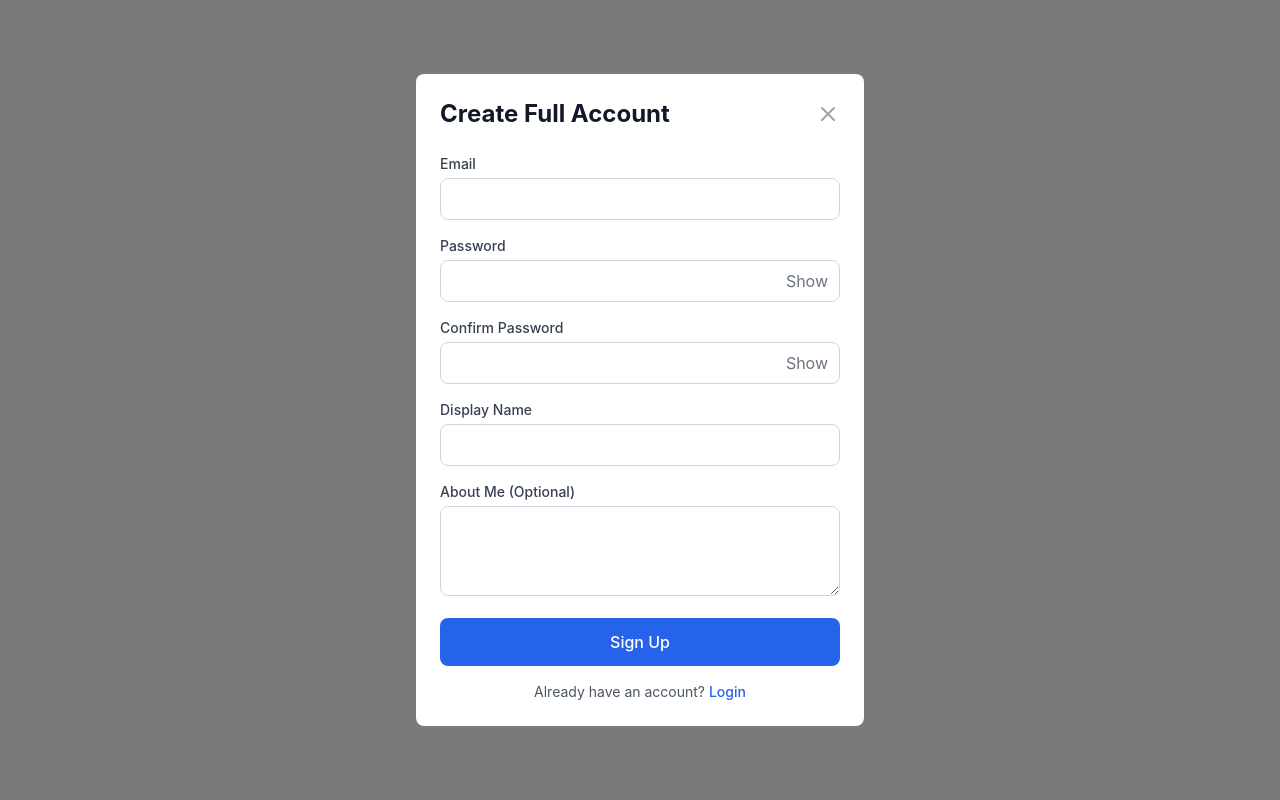
Test: SignupModal › Form Validation › should show error for invalid email format
The width and height of the screenshot is (1280, 800).
Type "invalid-email" into the field labelled "Email" at point(640, 199), box [440,178,840,220]
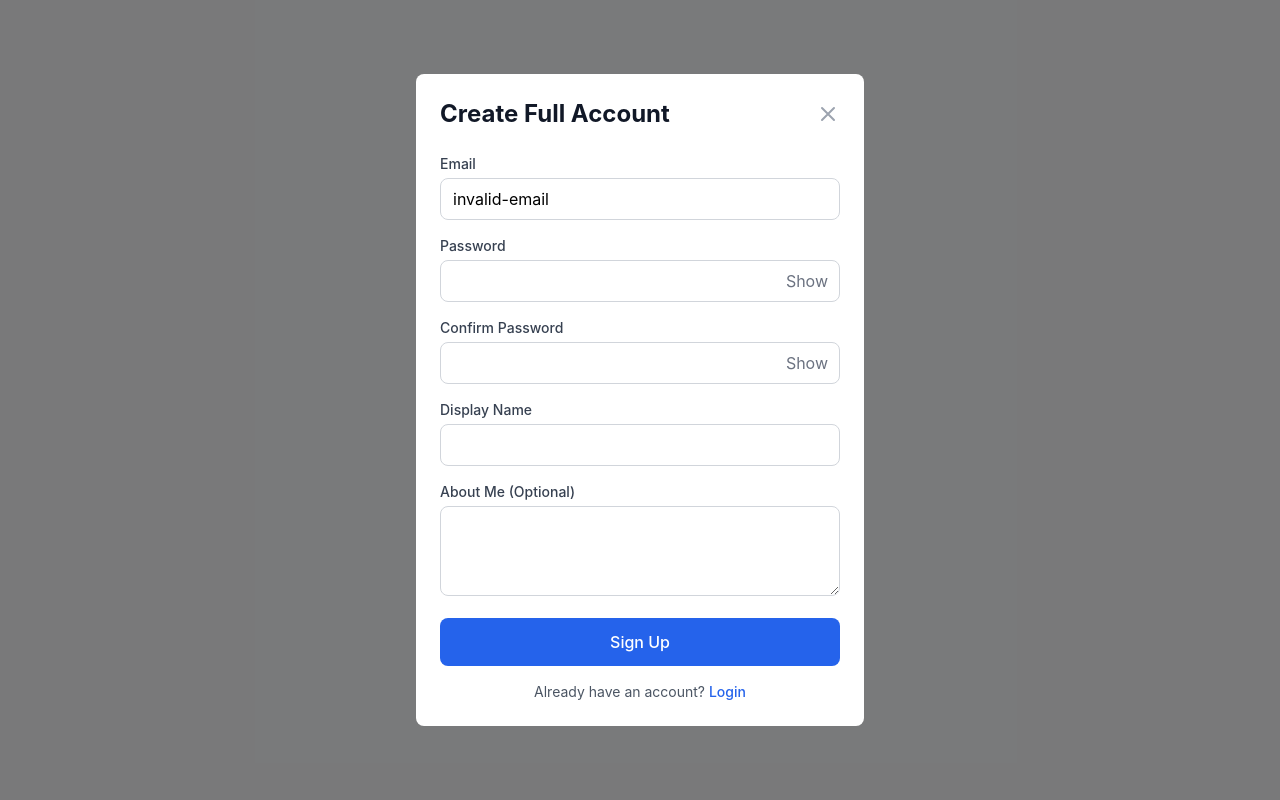
Leave the field labelled "Email", box [440,178,840,220]
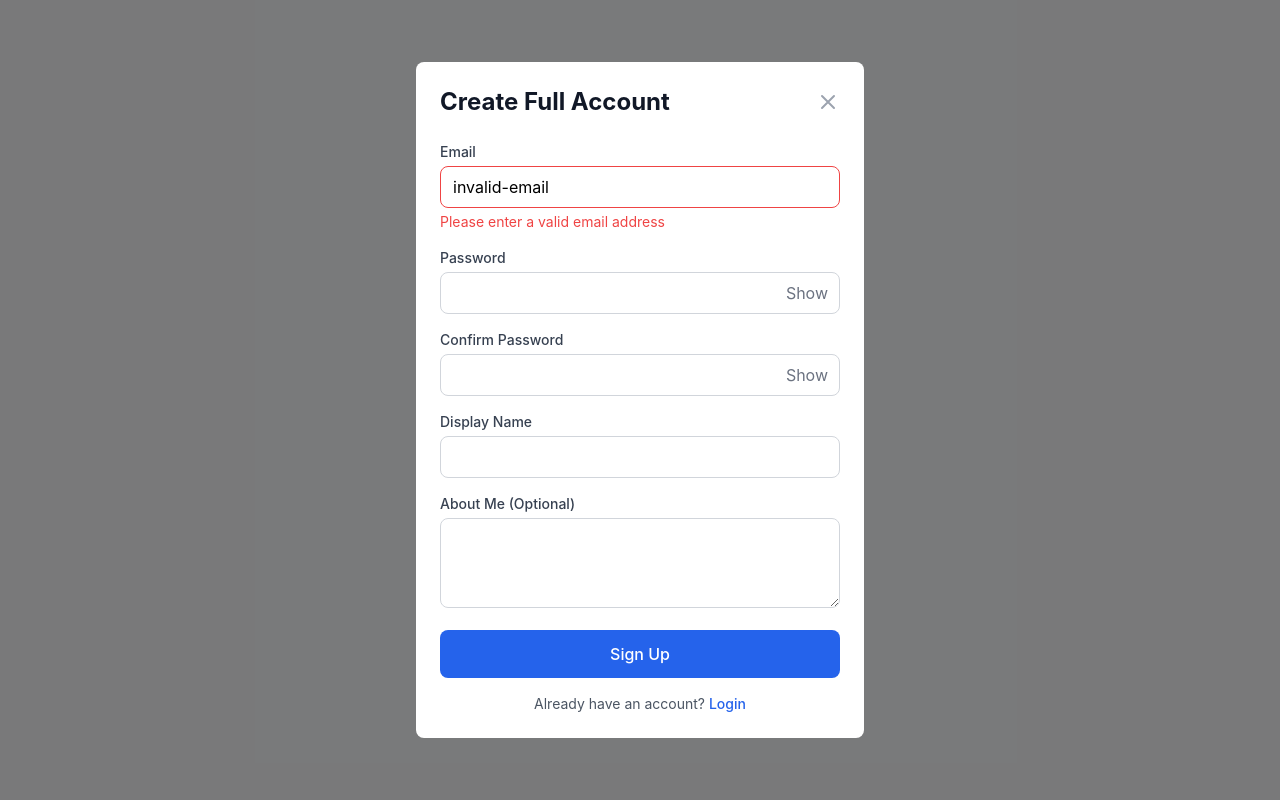
Result: the text "Please enter a valid email address" is shown at [440,213,665,230]
